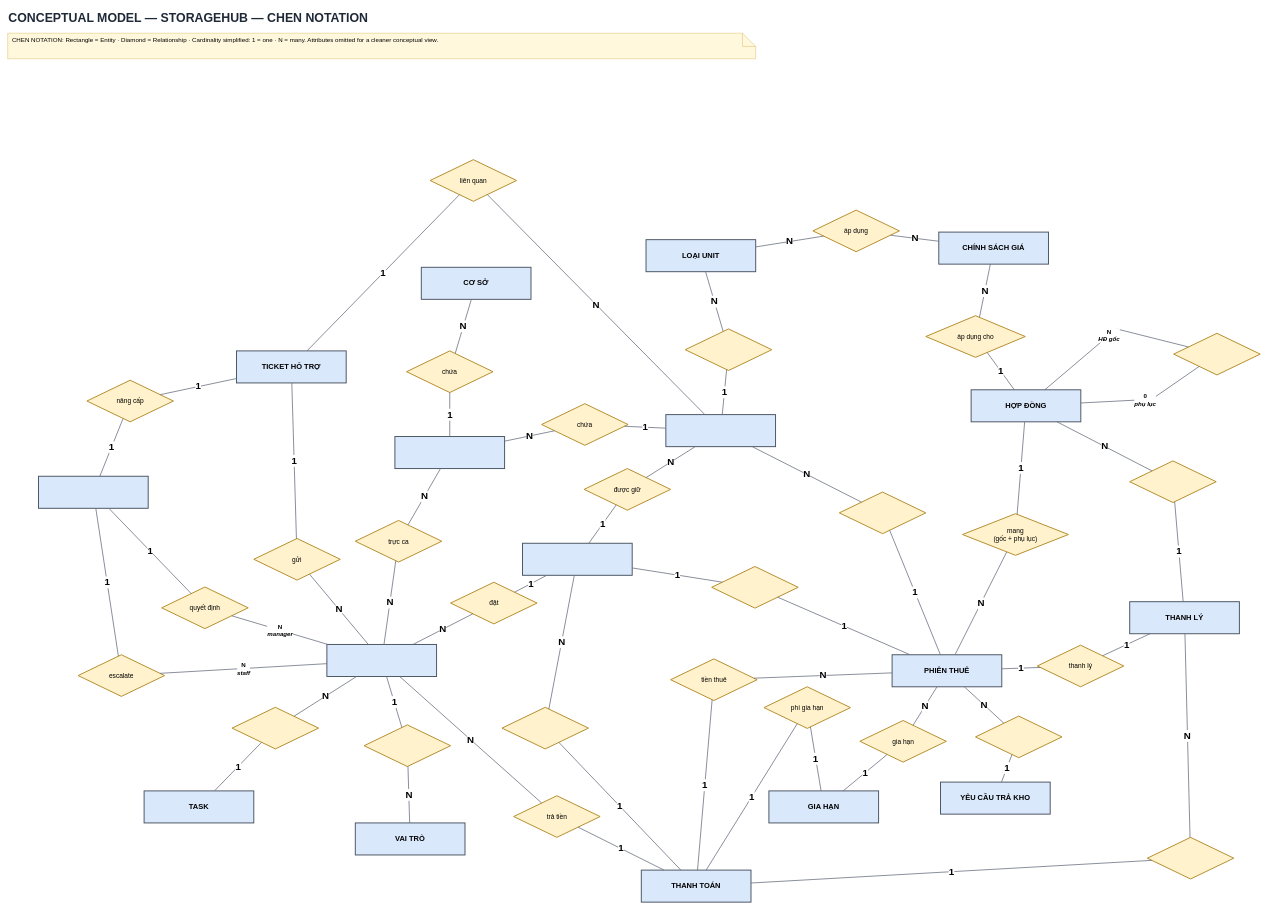
This 1269x910 diagram has some shape labels left out. The centre of each missing label's shape, as x and y in pixels:
cho thuê: point (882, 512)
cọc giữ chỗ: point (545, 728)
ESCALATION: point (93, 492)
KHU VỰC: point (449, 452)
kích hoạt: point (754, 587)
NGƯỜI DÙNG: point (381, 660)
nhận việc: point (275, 728)
phân loại: point (728, 349)
phân vai: point (407, 745)
phí phát sinh: point (1190, 858)
phụ lục của: point (1216, 354)
UNIT KHO: point (720, 430)
xin trả: point (1018, 736)
ĐẶT CHỖ: point (577, 559)
đối chiếu: point (1172, 481)
